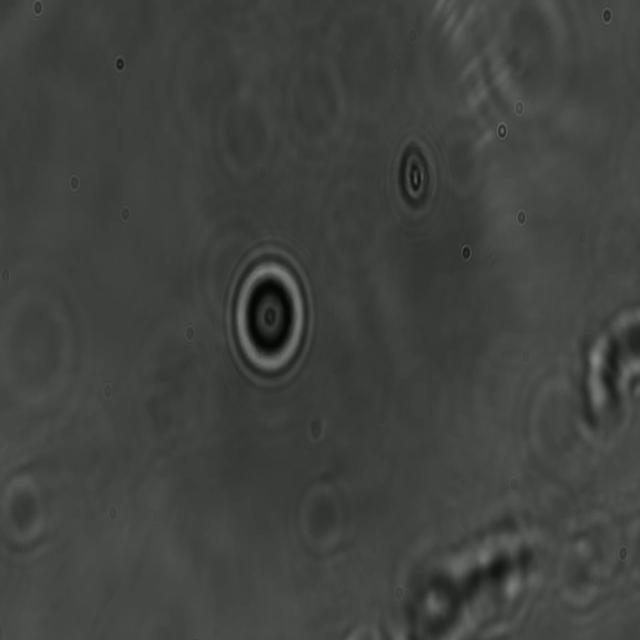LCELL: (221, 239, 318, 396)
